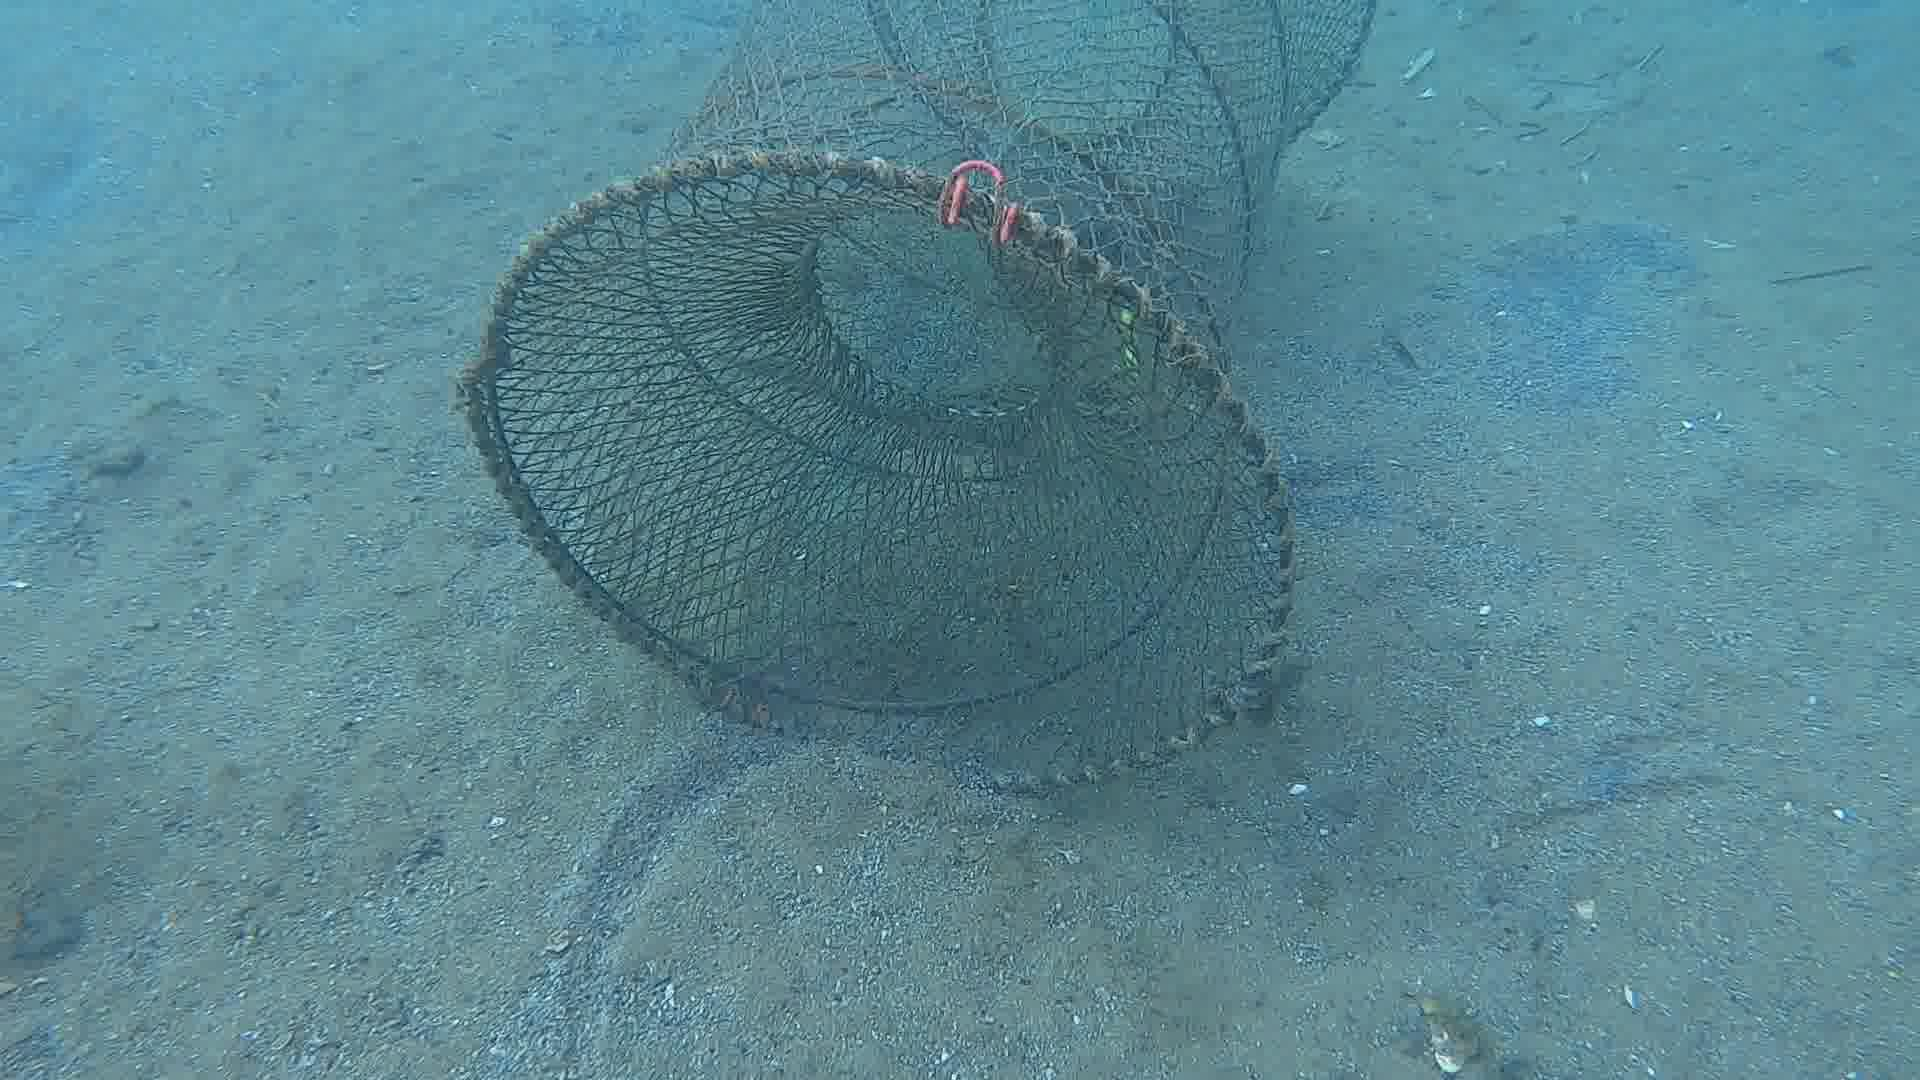spring fish trap: (446, 0, 1375, 791)
